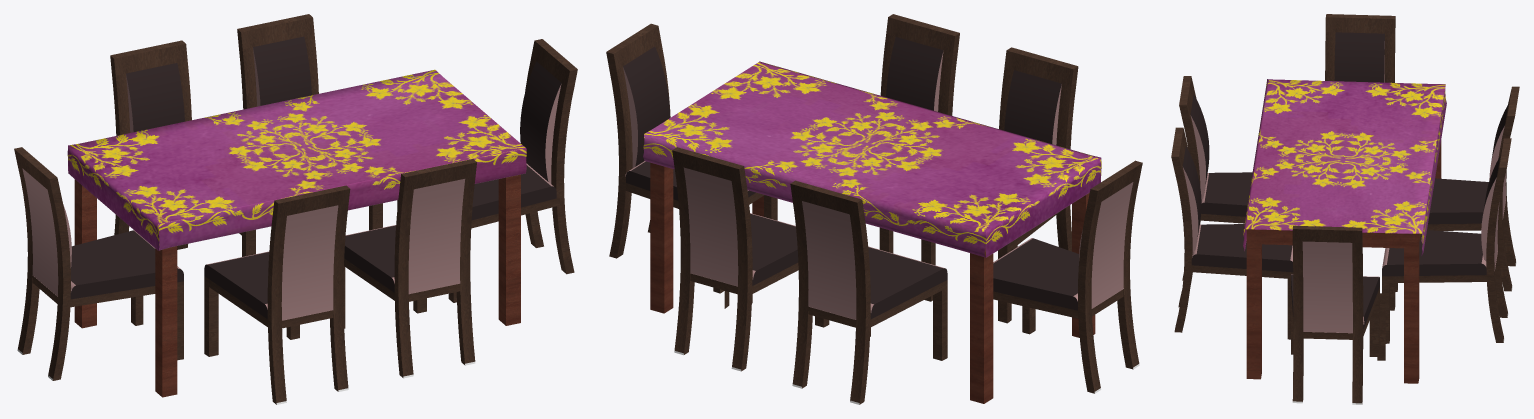
Rendered from dining_table3.glb.
3 views of the same model, side by side, from view 1: azimuth 30°, elevation 25°; view 2: azimuth 150°, elevation 25°; view 3: azimuth 270°, elevation 25° (orthographic). The views are drawn at different scales.
Visible parts, largest first — view 1: polySurface325; view 2: polySurface325; view 3: polySurface325.
Part boxes in pixels (x1,y1,x2,y2): polySurface325: [14, 14, 577, 404]; polySurface325: [606, 14, 1142, 404]; polySurface325: [1171, 14, 1519, 404].
Size of the model in its own units: 2.96 by 1.18 by 2.01.
Materials: 8 (3 with a texture image).
